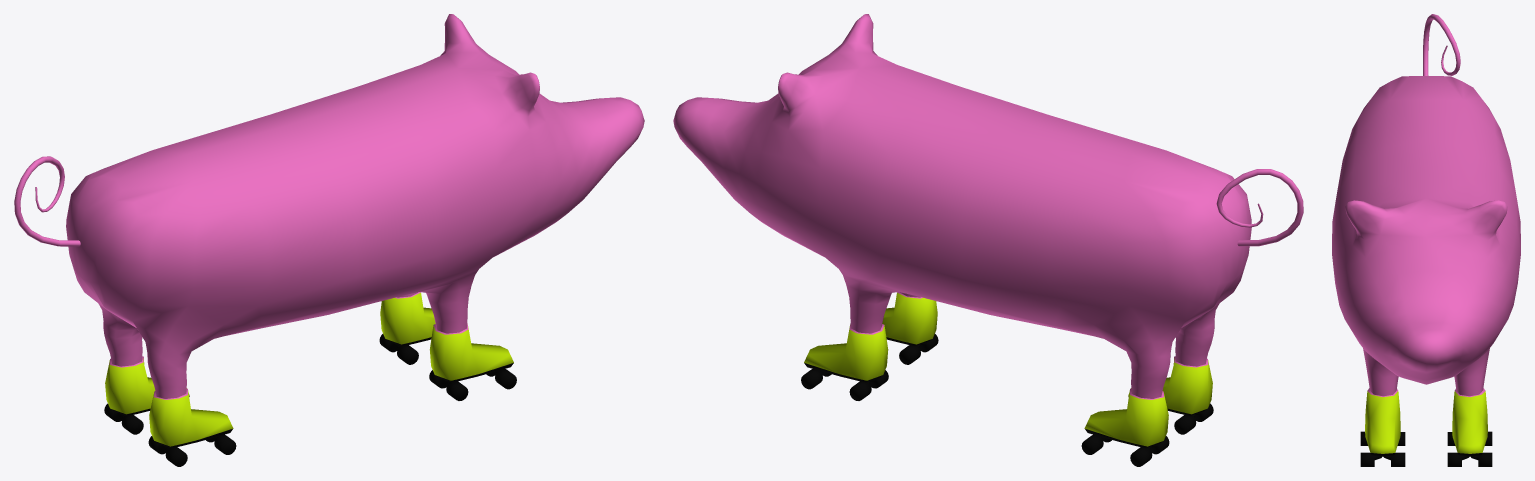
File: Pih.fbx
3 renders of one model, left to right at view 1: azimuth 30°, elevation 25°; view 2: azimuth 150°, elevation 25°; view 3: azimuth 270°, elevation 25°, orthographic. The views are drawn at different scales.
Visible parts, largest first — view 1: Pih; view 2: Pih; view 3: Pih.
Part boxes in pixels (x1,y1,x2,y2): Pih: (14, 14, 644, 466); Pih: (673, 14, 1303, 466); Pih: (1332, 14, 1520, 466).
Size of the model in its own units: 457 by 218 by 136.
